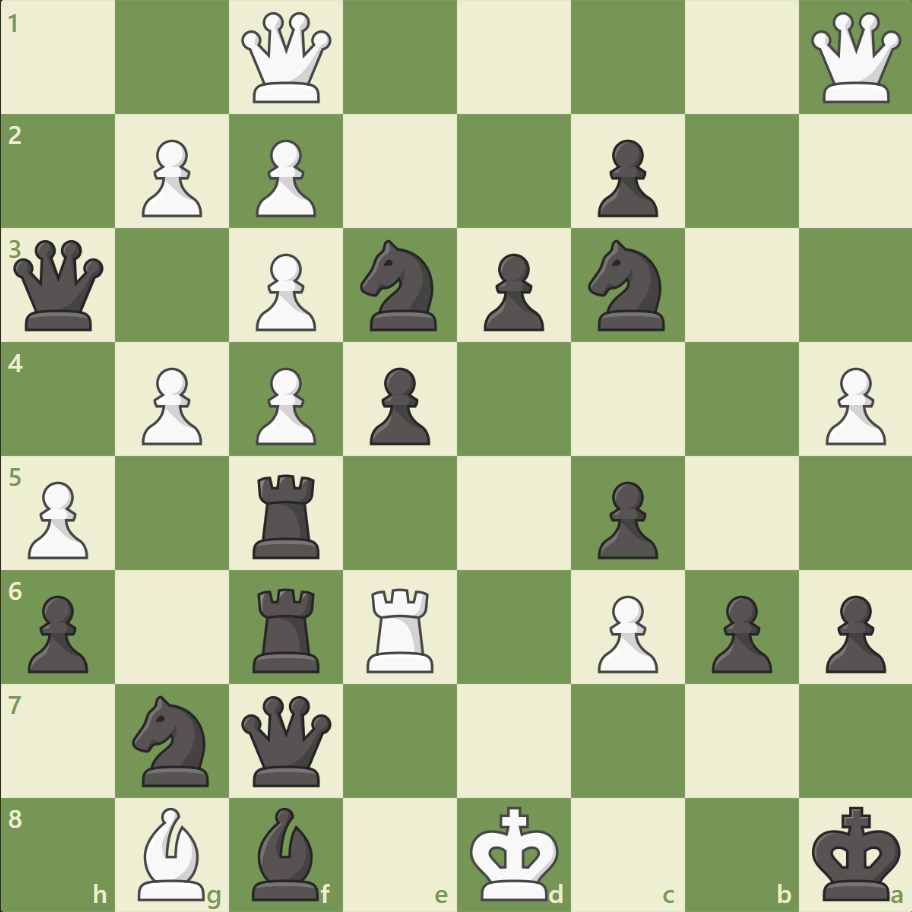B: (131, 801, 215, 904)
K: (465, 798, 565, 906)
P: (20, 473, 95, 564), (247, 359, 322, 450), (133, 359, 208, 450), (247, 246, 322, 337), (247, 132, 322, 223), (133, 132, 208, 223), (588, 586, 662, 677), (815, 359, 889, 450)
Q: (805, 9, 904, 108), (237, 9, 336, 108)
R: (360, 579, 442, 676)
b: (244, 801, 328, 904)
k: (806, 798, 906, 906)
n: (124, 688, 222, 791), (351, 234, 449, 337), (579, 234, 676, 337)
p: (701, 586, 776, 677), (20, 586, 95, 677), (474, 246, 549, 337), (815, 586, 889, 677), (588, 473, 662, 564), (361, 359, 435, 450), (588, 132, 662, 223)
q: (237, 690, 336, 789), (10, 236, 109, 335)
r: (246, 579, 329, 676), (246, 466, 329, 563)
